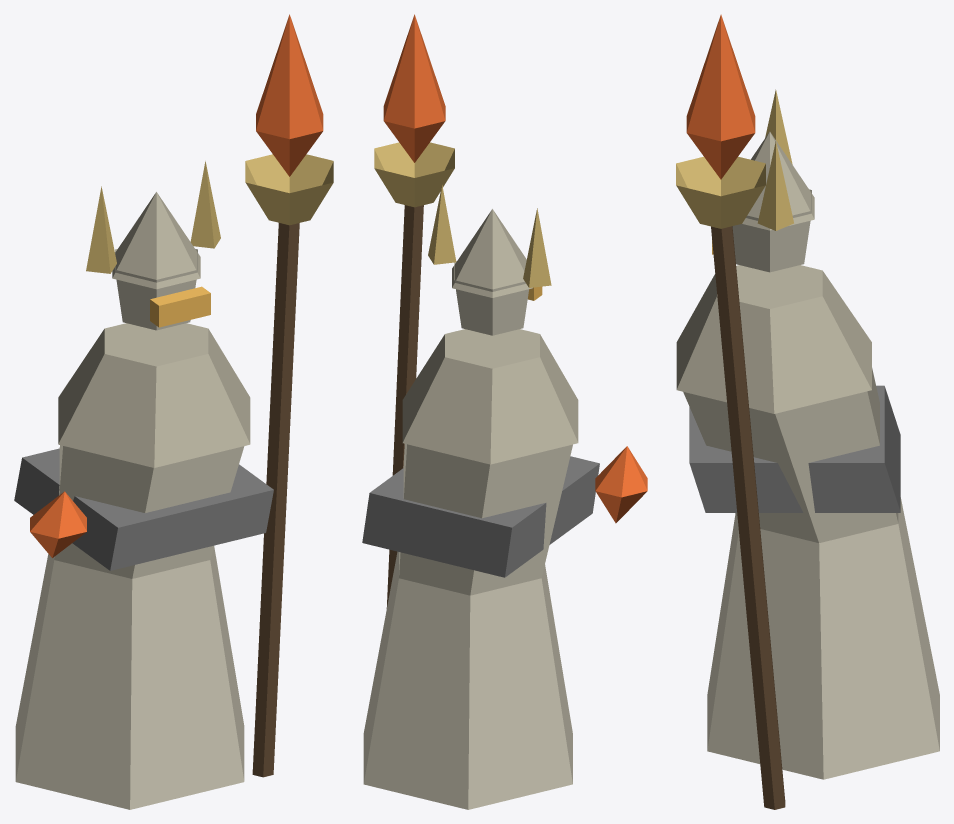
Rendered from pyromancer-attack-3.obj.
3 views of the same model, side by side, from view 1: azimuth 30°, elevation 25°; view 2: azimuth 150°, elevation 25°; view 3: azimuth 270°, elevation 25° (orthographic). The views are drawn at different scales.
Visible parts, largest first — view 1: pyromancer-attack-3; view 2: pyromancer-attack-3; view 3: pyromancer-attack-3.
Part boxes in pixels (left/top/right/bottom): pyromancer-attack-3: left=14, top=14, right=333, bottom=809; pyromancer-attack-3: left=362, top=14, right=647, bottom=809; pyromancer-attack-3: left=676, top=14, right=939, bottom=809.
Bounding box in the file's own units: 1.16 × 2.86 × 0.8646.
